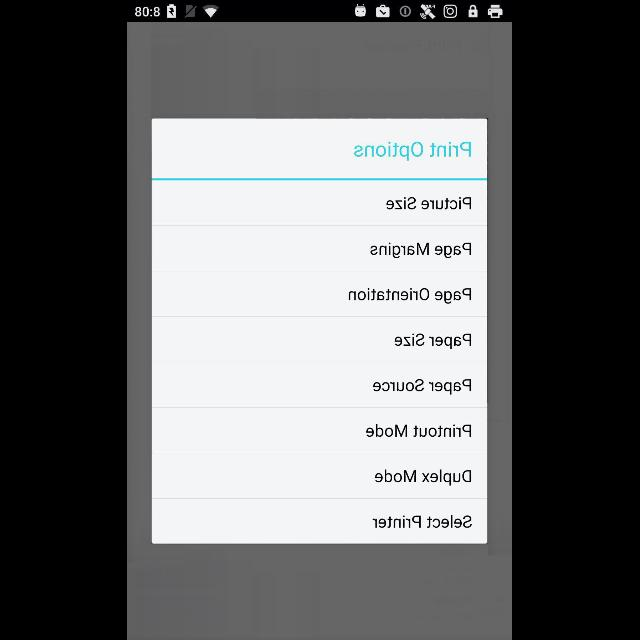panel: (152, 119, 488, 544)
text: (354, 141, 472, 161), (350, 288, 472, 304), (376, 469, 472, 486), (371, 242, 472, 258), (374, 379, 472, 395), (366, 424, 472, 438), (373, 514, 472, 528), (396, 332, 472, 350), (388, 198, 472, 210)
uppertaskbar: (128, 1, 512, 23)
